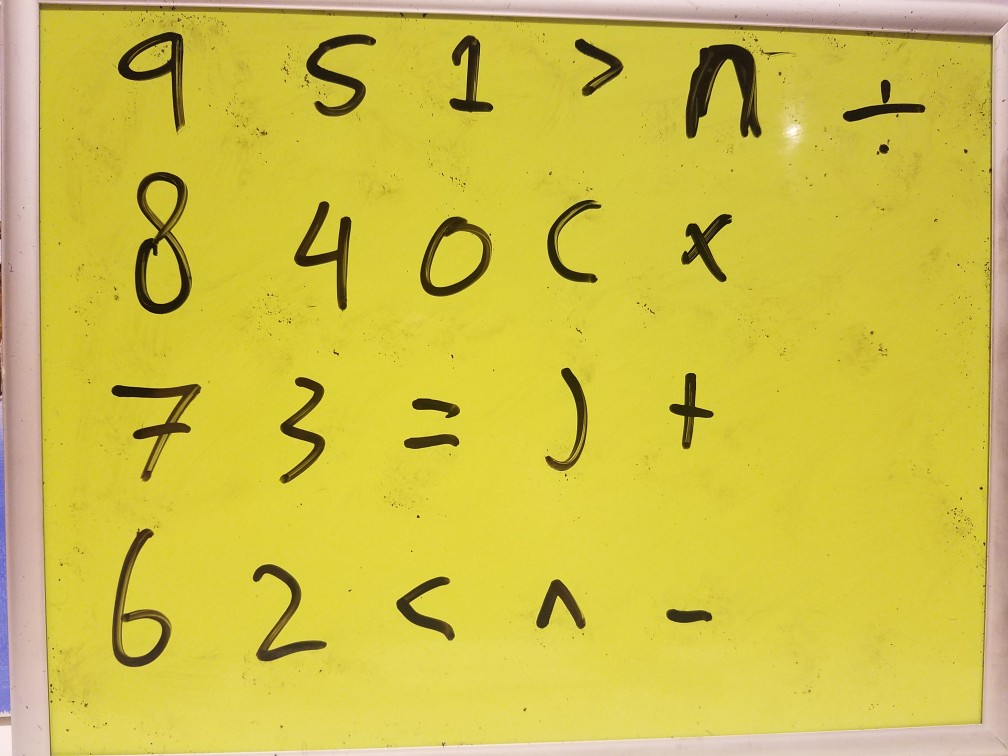(: (538, 176, 609, 313)
): (528, 347, 609, 506)
+: (656, 362, 721, 464)
-: (648, 592, 726, 640)
0: (407, 197, 501, 313)
1: (435, 27, 501, 127)
2: (244, 556, 330, 674)
3: (270, 363, 333, 504)
4: (283, 180, 359, 318)
5: (298, 21, 387, 128)
6: (92, 516, 176, 681)
7: (97, 352, 205, 491)
8: (112, 162, 204, 321)
9: (107, 27, 201, 145)
<: (387, 559, 459, 660)
=: (382, 382, 473, 471)
>: (563, 30, 629, 106)
^: (509, 560, 595, 657)
div: (828, 65, 942, 173)
n: (680, 41, 769, 154)
x: (670, 199, 745, 300)
